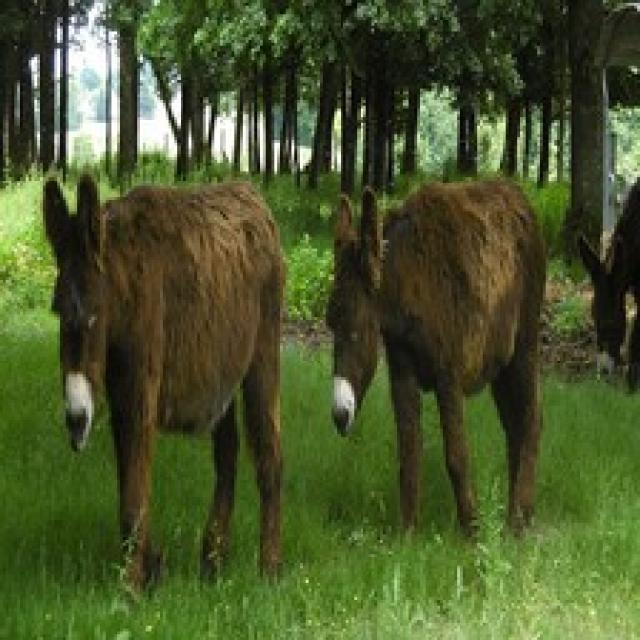Donkey: (40, 168, 286, 600), (323, 175, 546, 540), (574, 168, 637, 394)
